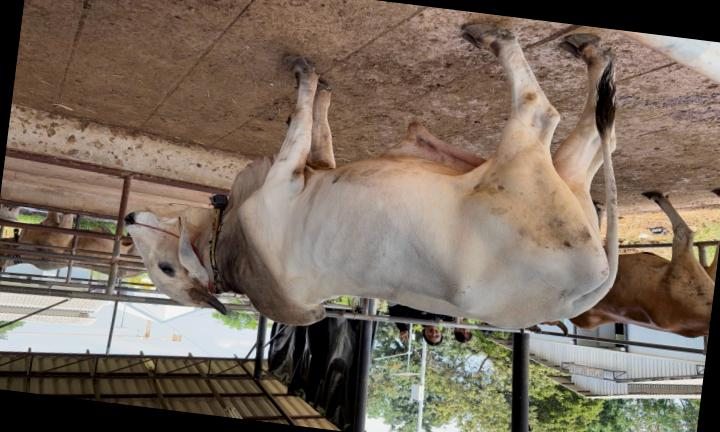Brahman: (126, 25, 617, 328)
